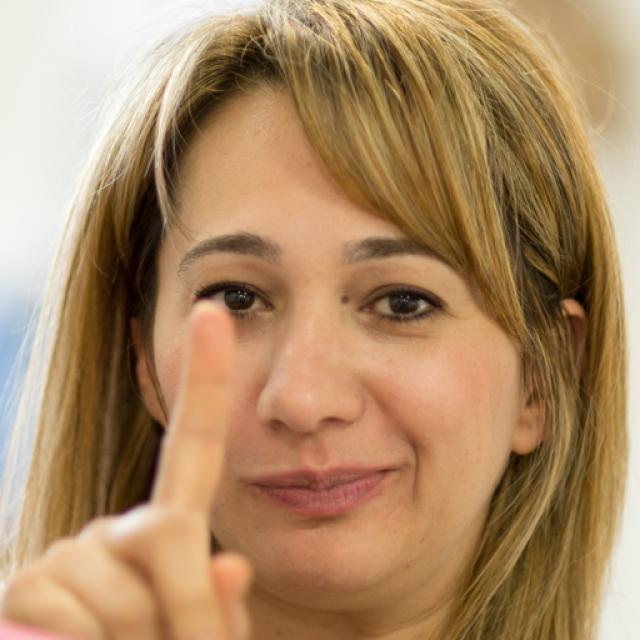content: (155, 72, 520, 598)
